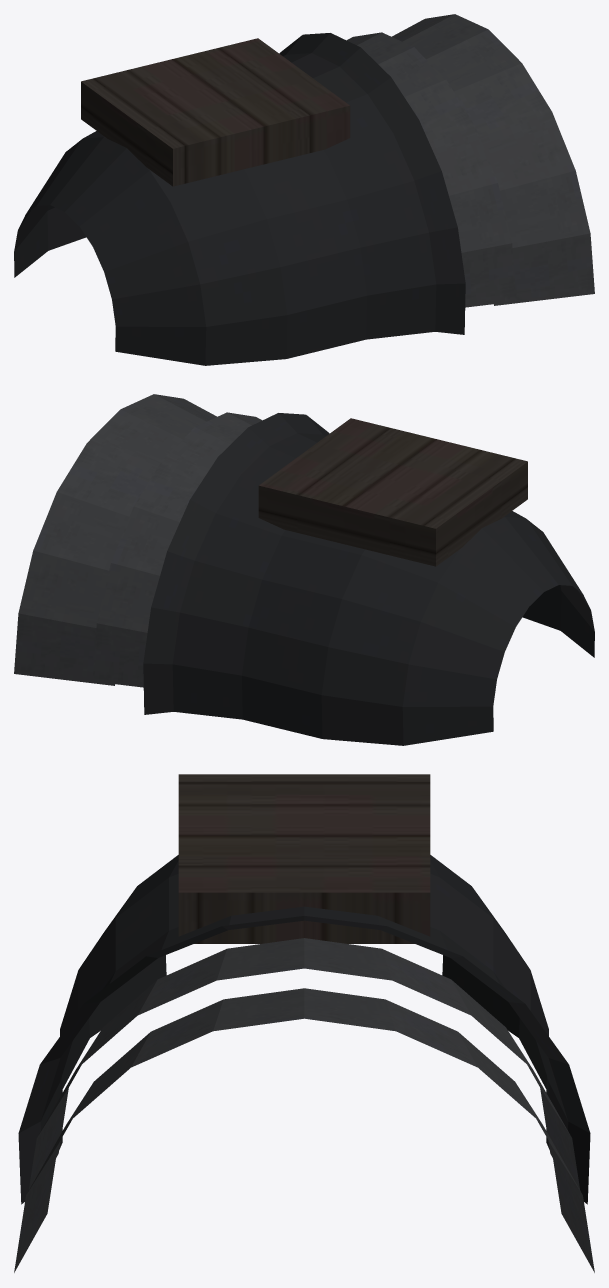
The model's file is eq_present_3_shoulder.glb.
3 views of the same model, one above another, from view 1: azimuth 30°, elevation 25°; view 2: azimuth 150°, elevation 25°; view 3: azimuth 270°, elevation 25° (orthographic). The views are drawn at different scales.
Parts seen in each view (by area): view 1: eq_present_3_shoulder; view 2: eq_present_3_shoulder; view 3: eq_present_3_shoulder.
Part boxes in pixels (bbox=[...]): eq_present_3_shoulder: bbox=[14, 14, 594, 365]; eq_present_3_shoulder: bbox=[14, 394, 594, 745]; eq_present_3_shoulder: bbox=[14, 774, 594, 1272].
Bounding box in the file's own units: 0.2581 × 0.1232 × 0.2245.
3 materials, 3 textured.
